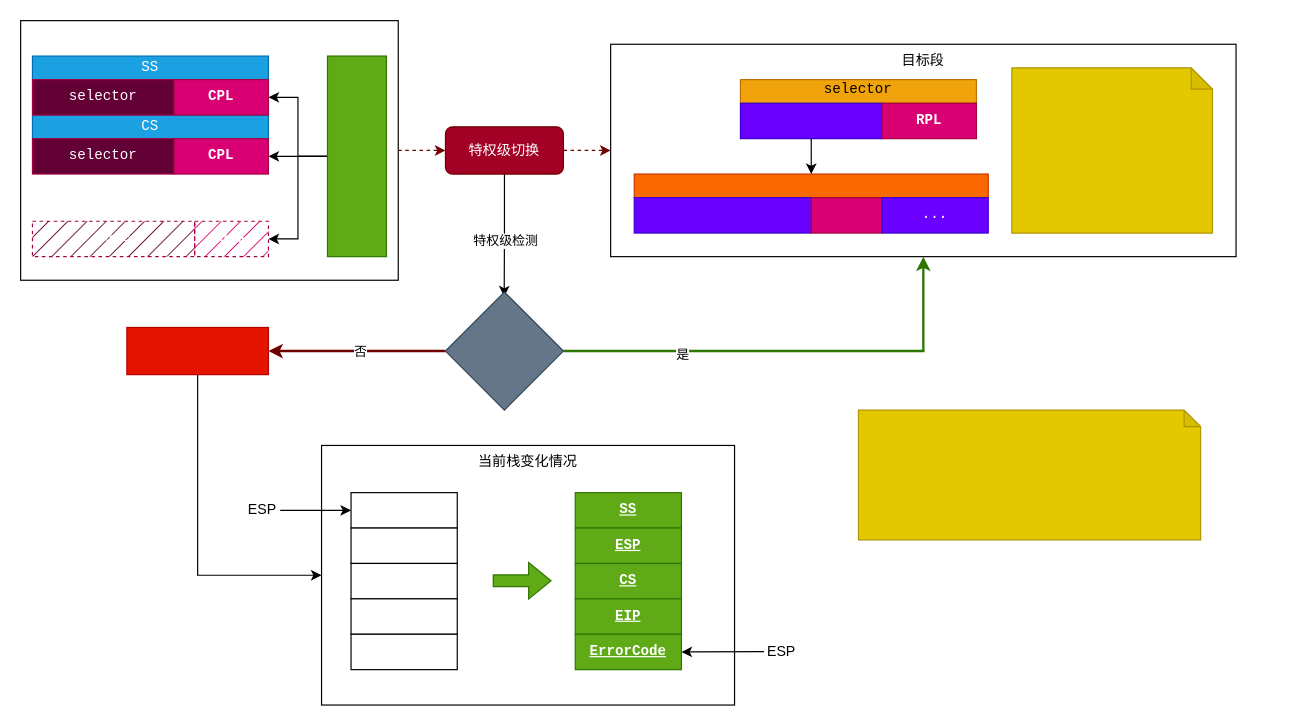
The diagram is 1292 pixels wide and 726 high, and some of its shapes have lost their labels. The shapes that lost their labels are listed below. From the top down, each one's box as (x1, y1, x2, y2) in pixels, then its label:
(739, 102, 882, 139): index
(19, 19, 398, 280): 当前任务所在段
(326, 55, 386, 257): 当前任务特权级
(1011, 67, 1212, 233): RPL ≤ DPL 这是CPU检查特权级的一部分，同时还需要满足 max(CPL, RPL) ≤ DPL
(633, 173, 988, 198): GDT
(633, 196, 811, 233): address / limit
(810, 196, 882, 233): DPL
(126, 326, 268, 375): 触发 #GP 异常
(444, 291, 563, 410): CPL ≤ RPL
(857, 409, 1201, 540): 切换到目标段时，由于设置了 TR ，CPU会将TSS中对应的特权级的 CS、 SS&ESP 等值 设置到寄存器中
